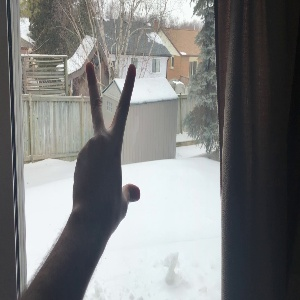hand: (73, 63, 141, 219)
